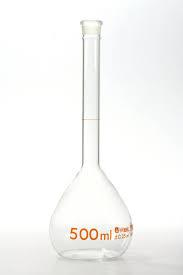Volumetric flask: (50, 17, 139, 265)
